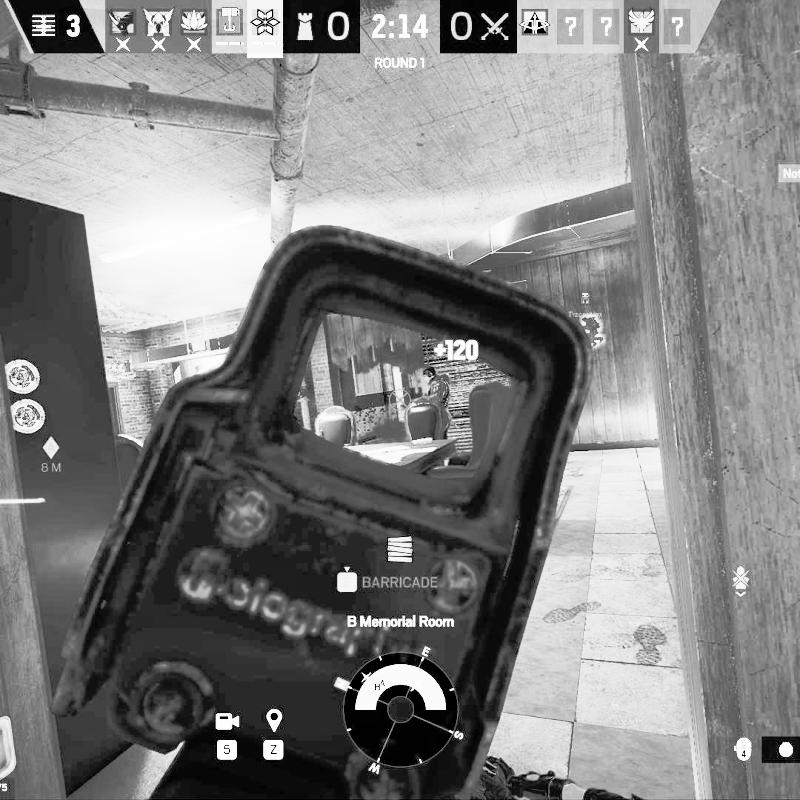Character: (411, 365, 452, 440)
Friend_label: (568, 292, 604, 318)
Head: (420, 366, 438, 384)
